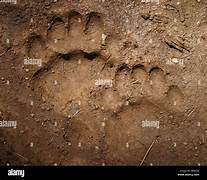bear: (20, 7, 123, 109), (90, 61, 191, 145)
